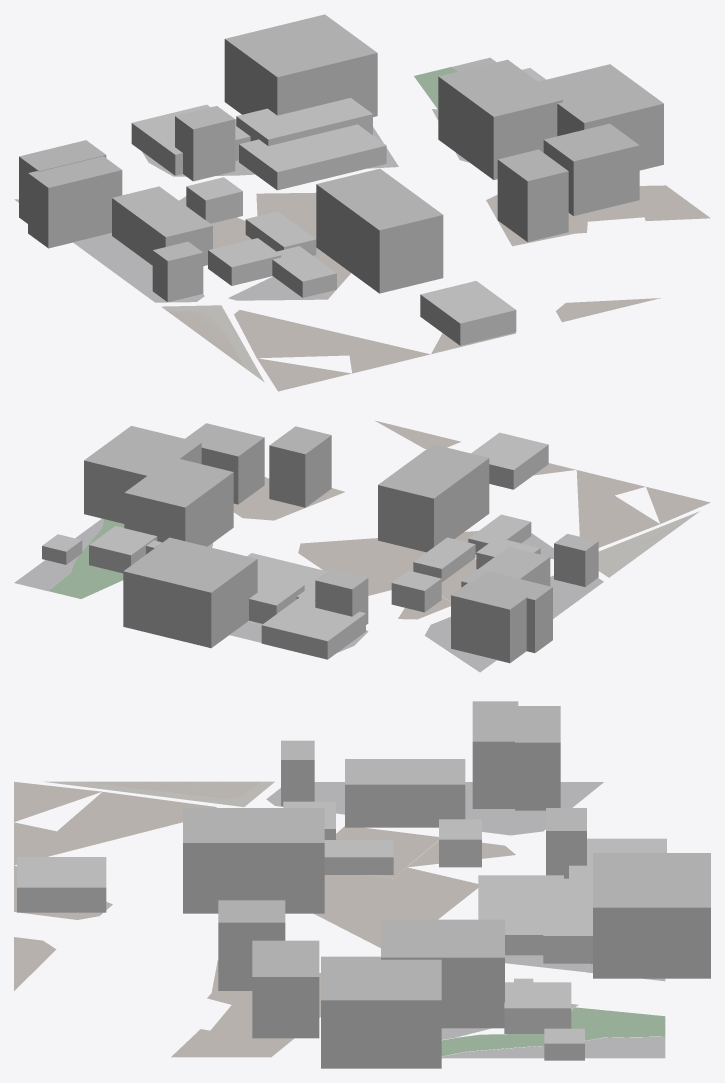
Rendered from 103_95_mid.glb.
3 renders of one model, top to bottom at view 1: azimuth 30°, elevation 25°; view 2: azimuth 150°, elevation 25°; view 3: azimuth 270°, elevation 25°, orthographic. The views are drawn at different scales.
Bounding box in the file's own units: 544 × 61.02 × 535.
